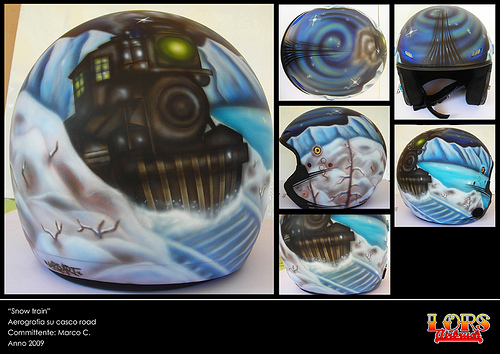helmet: (15, 20, 266, 282), (281, 111, 388, 205), (403, 9, 492, 108)
